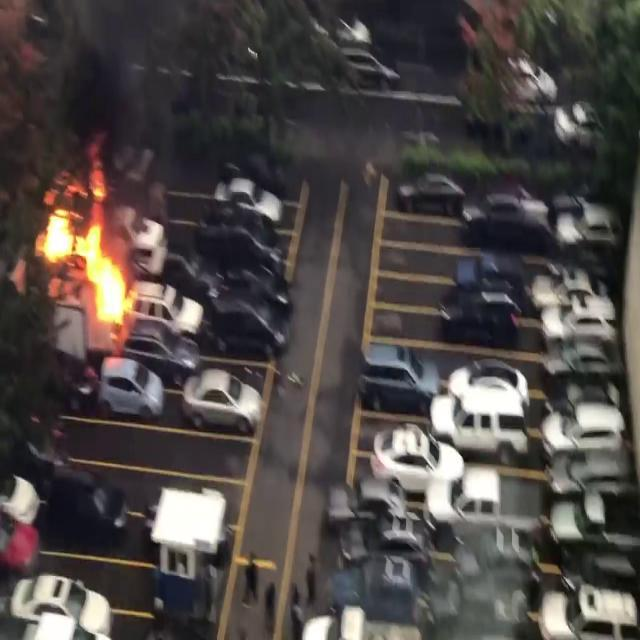Fire: (33, 178, 141, 328)
Smoke: (0, 1, 193, 220)
